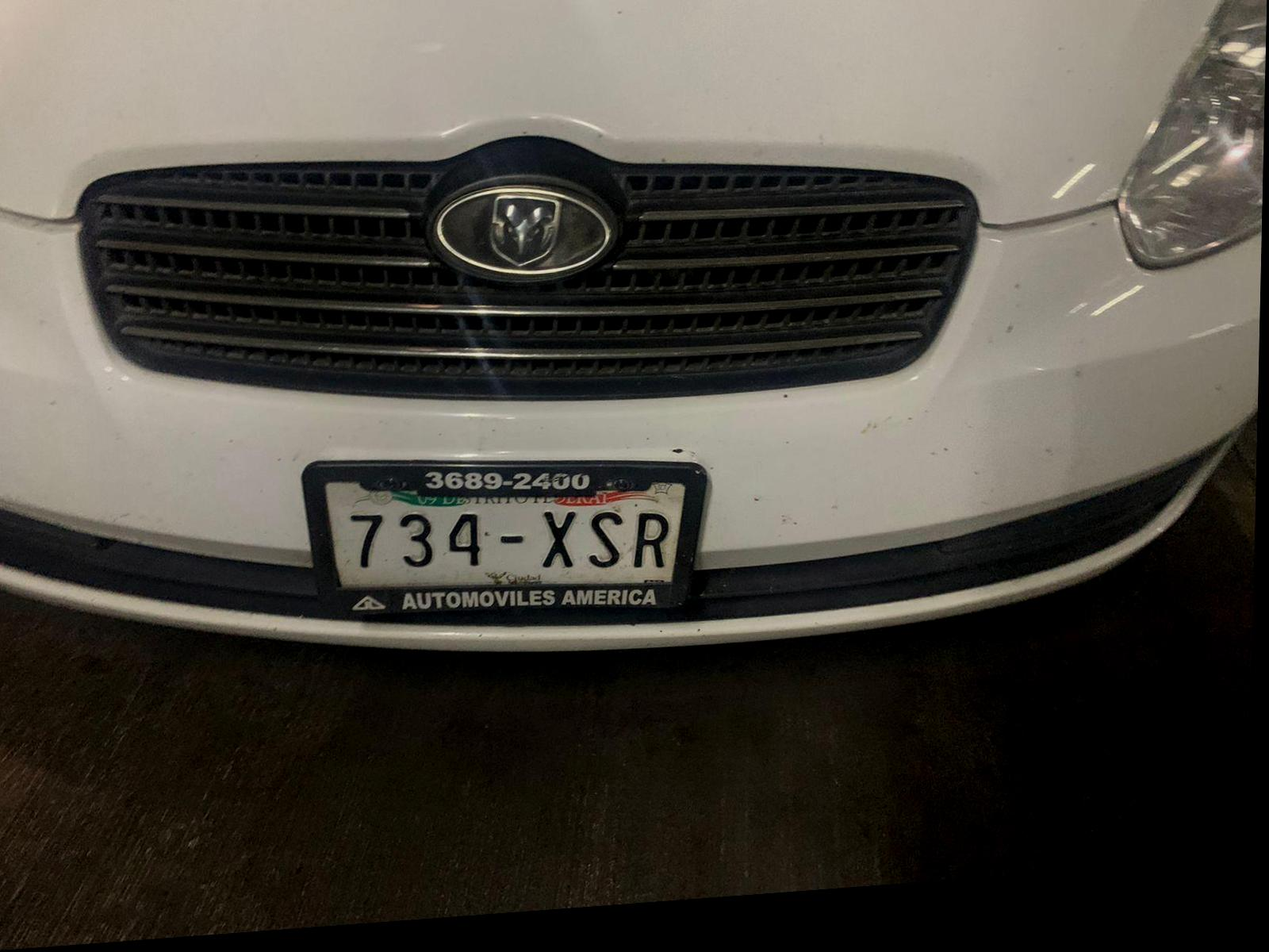License_Plate: (288, 406, 727, 649)
